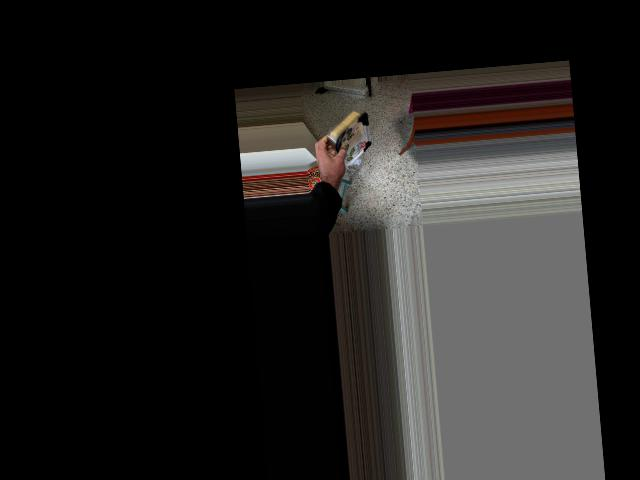cheese: (307, 95, 389, 166)
